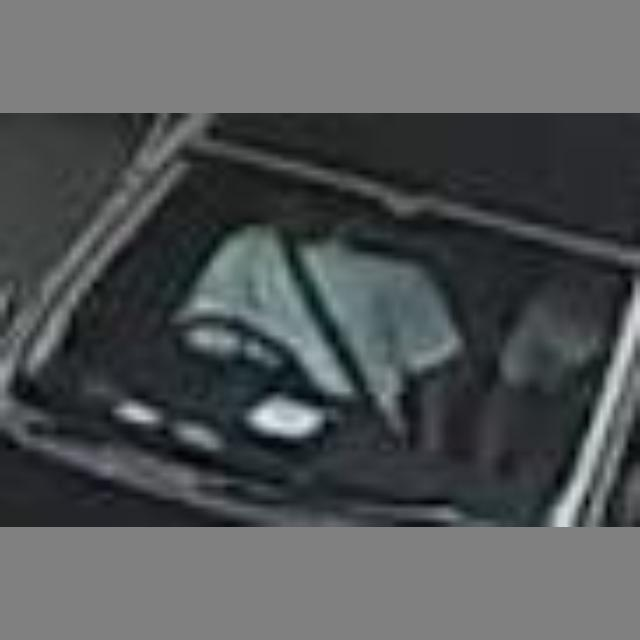pakai: (197, 204, 415, 422)
